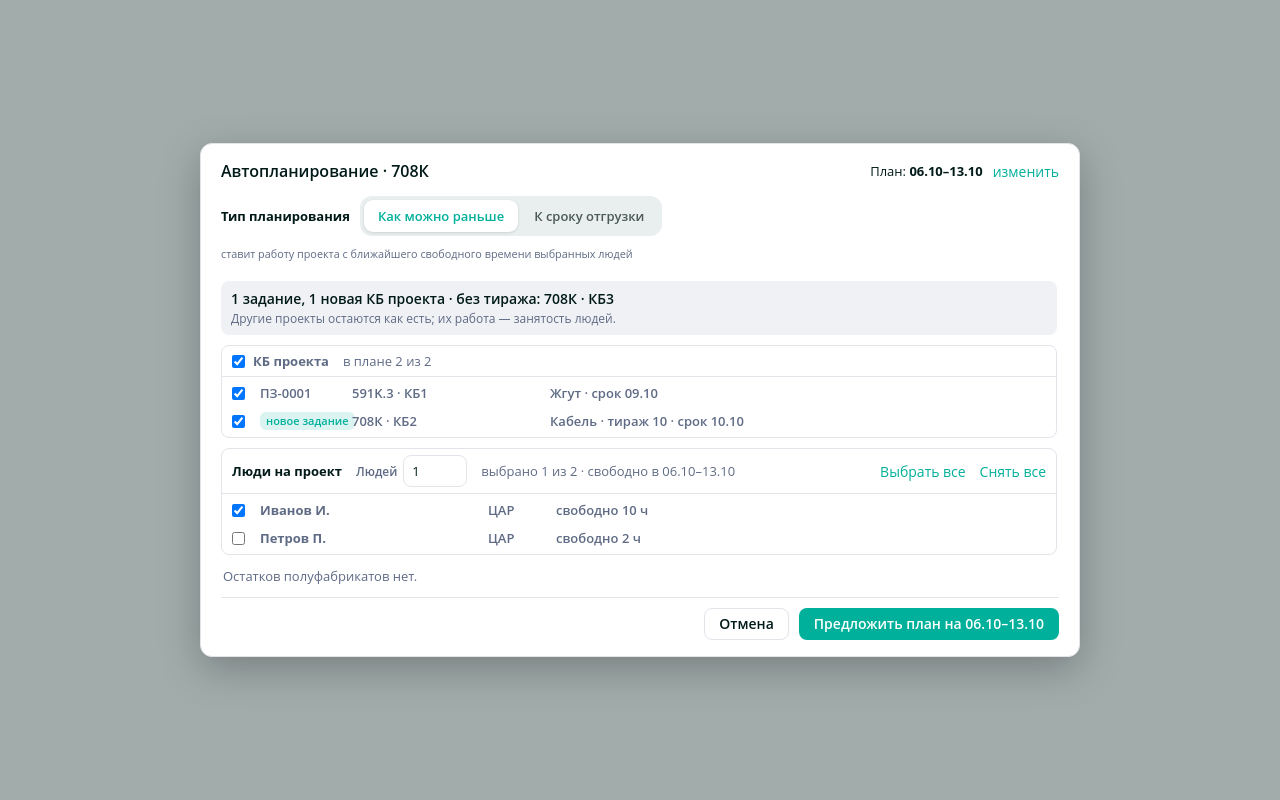
Test: «К сроку отгрузки» is the ship-date calculation: no proposal and nothing to apply
Expected: the checkbox labelled "Иванов И." is checked, [232, 504, 245, 516]
Expected: the element "От даты отгрузки" is not shown
Click the radio button labelled "К сроку отгрузки". click: (589,216)
box: [520, 200, 658, 232]
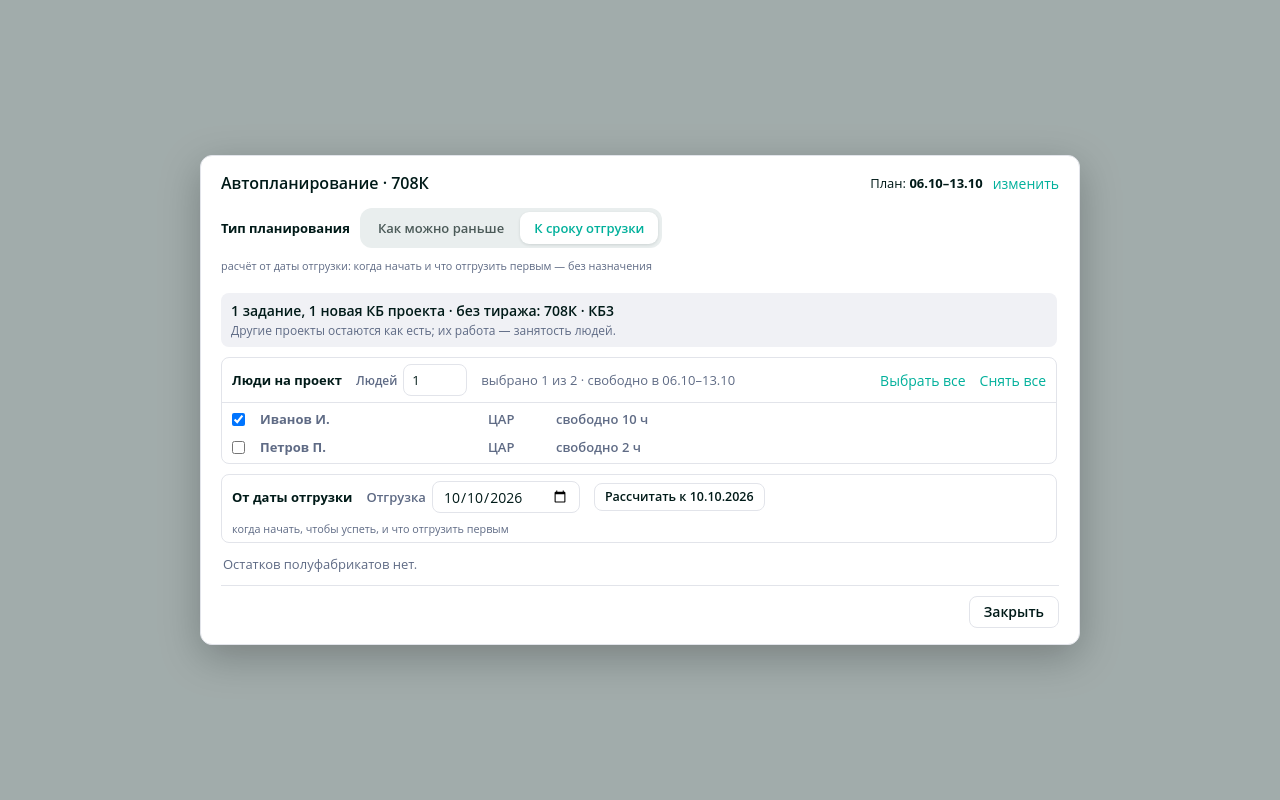
Expected: the element "От даты отгрузки" is shown, [221, 474, 1057, 543]
Expected: the date field named "Дата отгрузки" holds "2026-10-10", [432, 481, 580, 513]
Expected: the button "Предложить план" is gone
Click the radio button labelled "Как можно раньше". click: (441,228)
box: [364, 212, 518, 244]
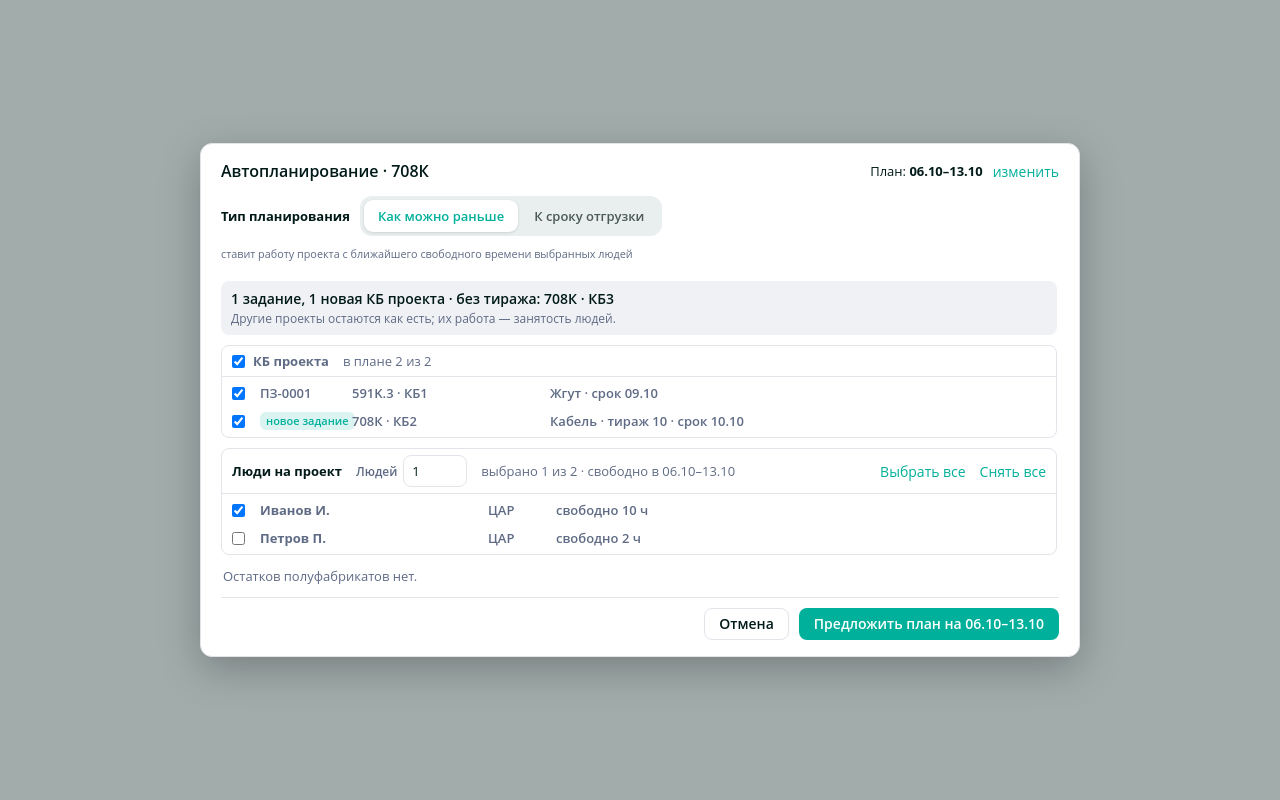
Expected: the button "Предложить план на 06.10–13.10" is enabled, [799, 608, 1059, 640]
